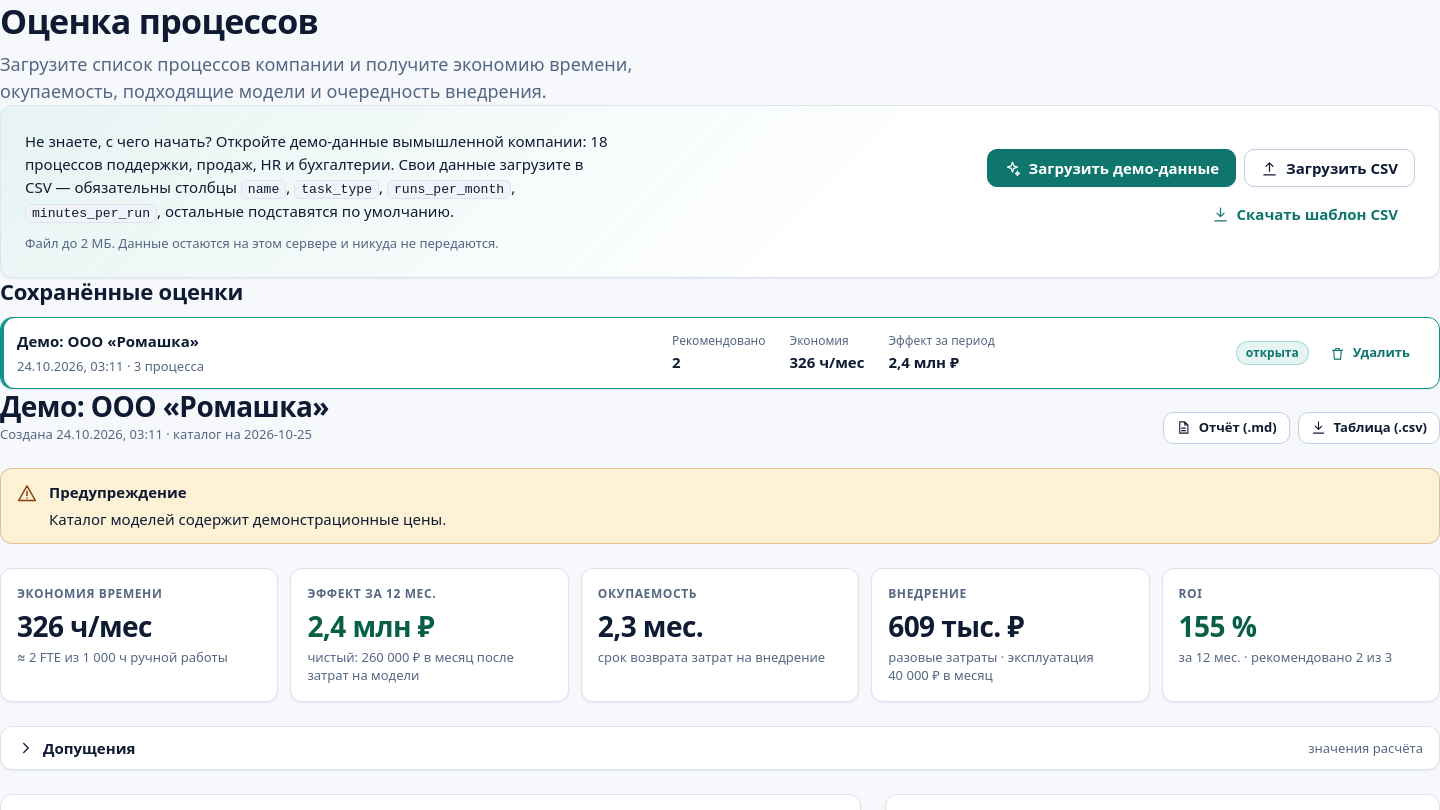
Test: AssessmentPage: загрузка данных › сохранённая оценка открывается автоматически, удаление требует подтверждения
Expected: the text "открыта" is shown, x1=1236 y1=341 x2=1309 y2=365
Step 1. Click the button "Удалить" → coordinates (1370, 353), box x1=1317 y1=337 x2=1423 y2=369
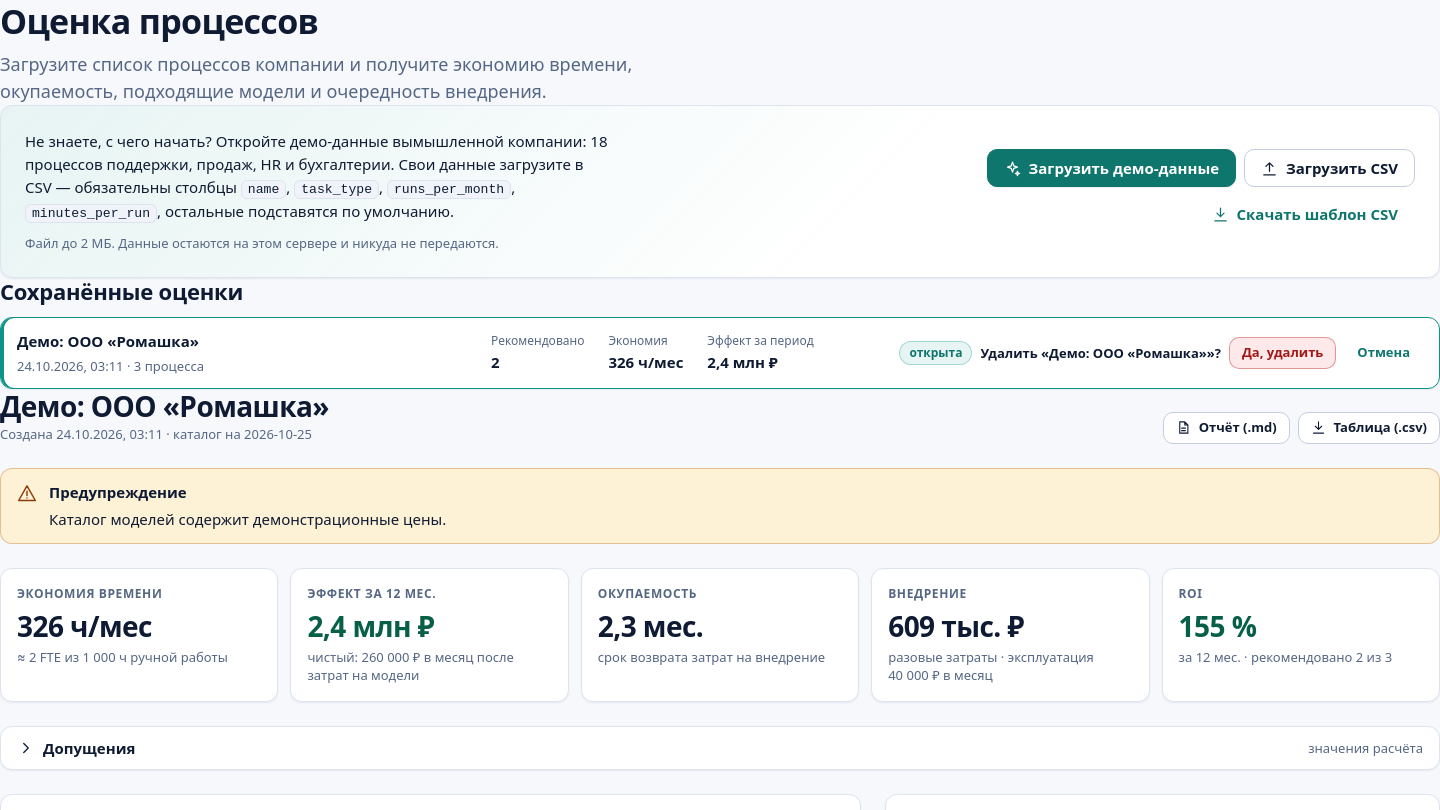
Step 2. Click the button "Да, удалить" → coordinates (1283, 353), box x1=1229 y1=337 x2=1336 y2=369
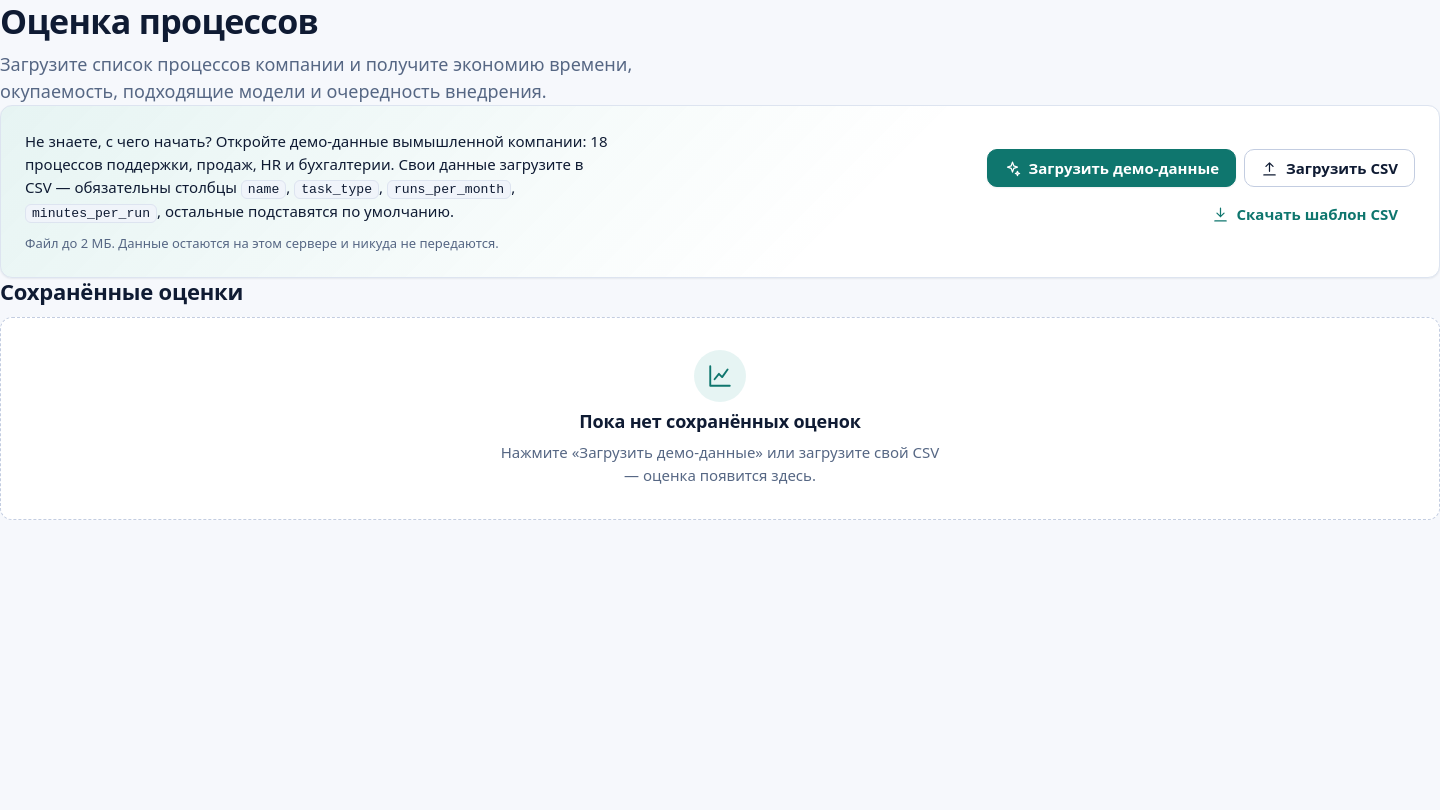
Expected: the heading "Пока нет сохранённых оценок" is shown, x1=579 y1=410 x2=861 y2=433
